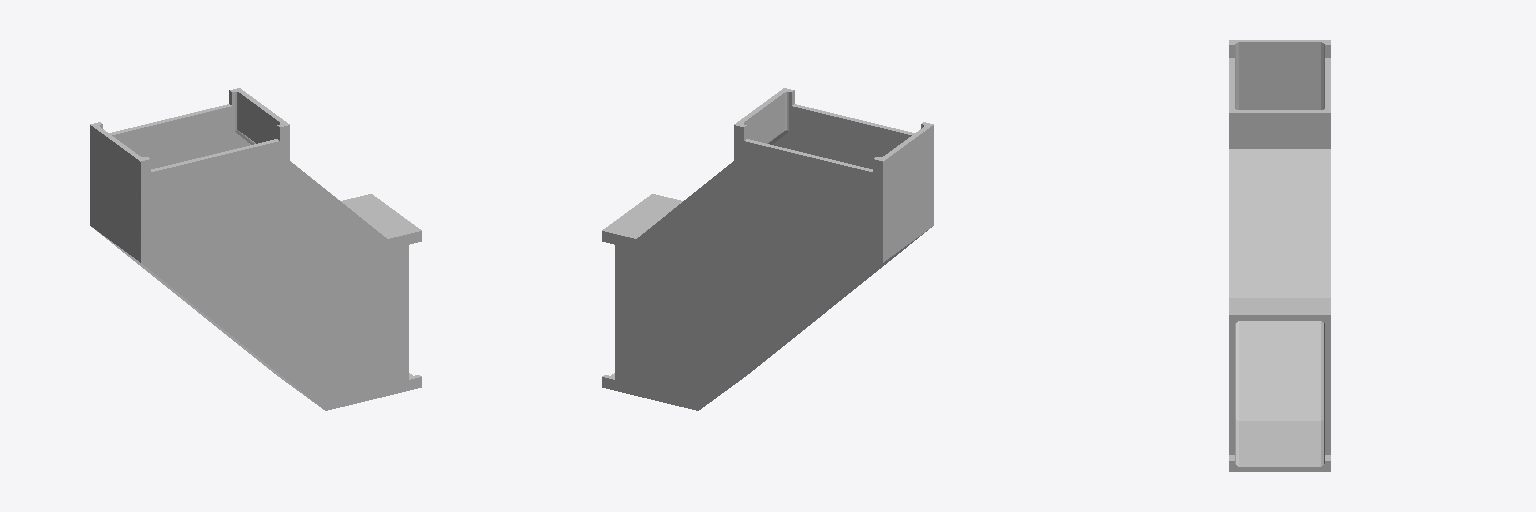
The picture shows the model from 3 angles: view 1: azimuth 30°, elevation 25°; view 2: azimuth 150°, elevation 25°; view 3: azimuth 270°, elevation 25°; orthographic projection.
Visible parts, largest first — view 1: SM_45Turn_E; view 2: SM_45Turn_E; view 3: SM_45Turn_E.
Part boxes in pixels (left/top/right/bottom): SM_45Turn_E: left=90, top=88, right=421, bottom=410; SM_45Turn_E: left=602, top=88, right=933, bottom=410; SM_45Turn_E: left=1229, top=40, right=1330, bottom=471.
Size of the model in its own units: 429 by 429 by 134.